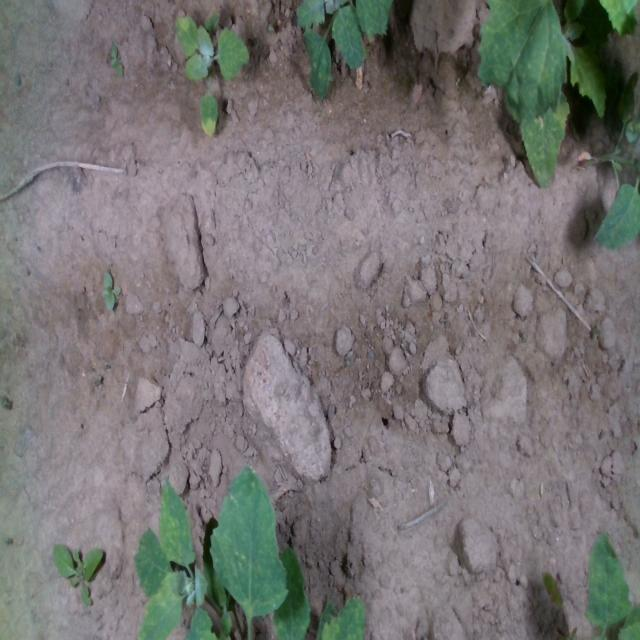weed: (96, 266, 118, 314), (108, 38, 125, 80)
